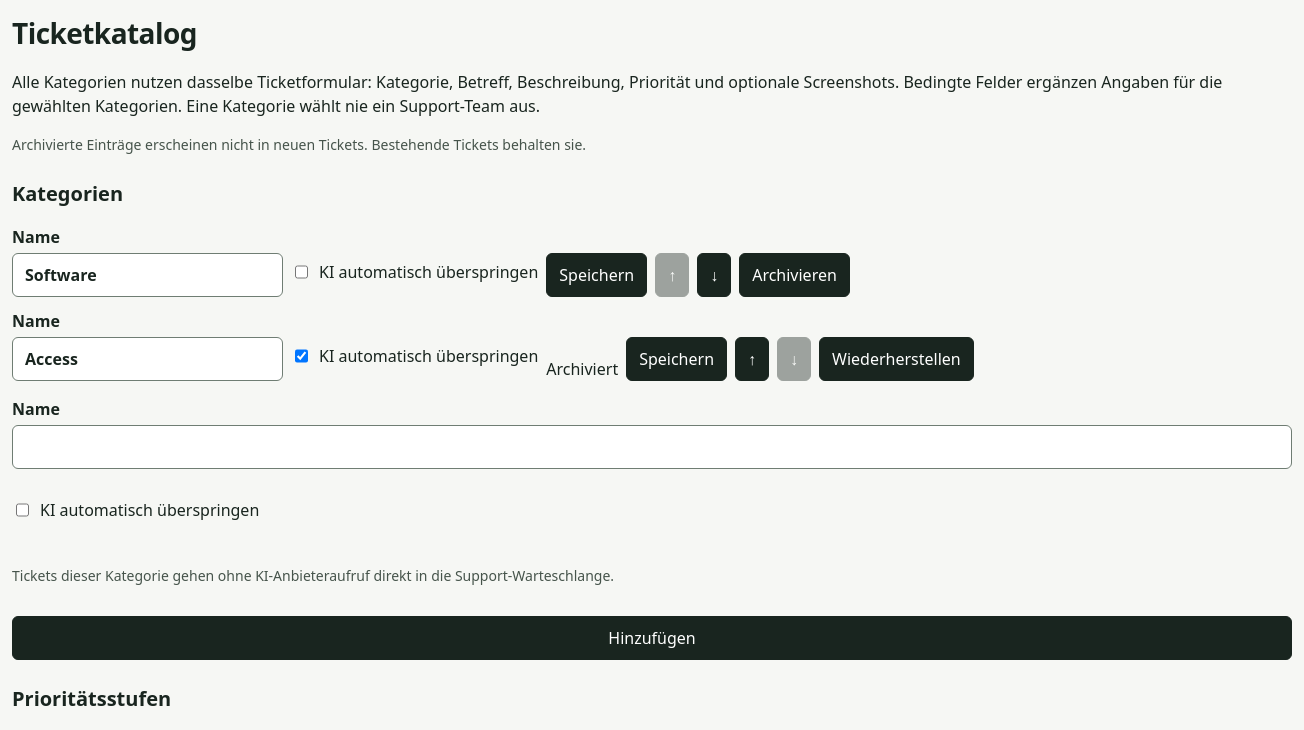
Test: reorders with the complete list and shows errors in German
Expected: the heading "Ticketkatalog" is shown, [12,14,197,52]
Click the button named "Nach unten: Software". click: x=714, y=275
box: [697,253,731,297]
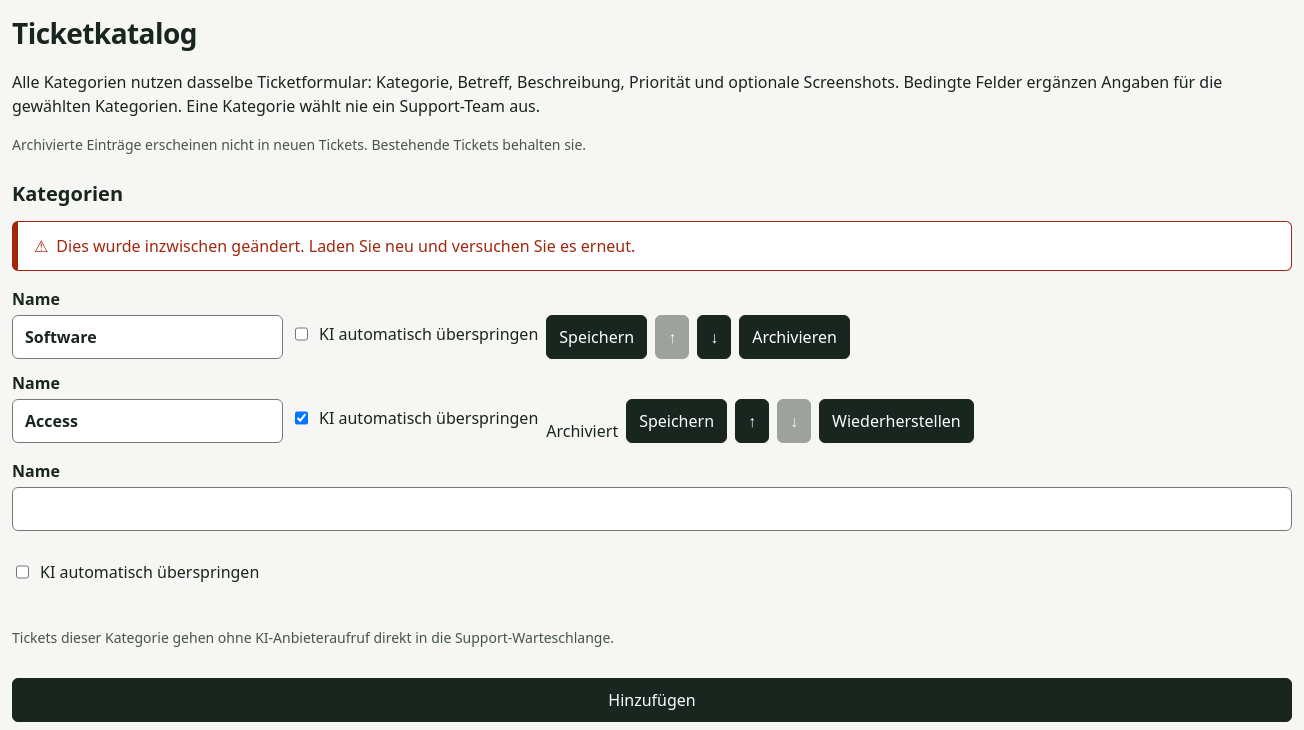
Expected: the message shows "inzwischen geändert", [56,235,635,257]
